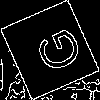G: (25, 25, 86, 79)
